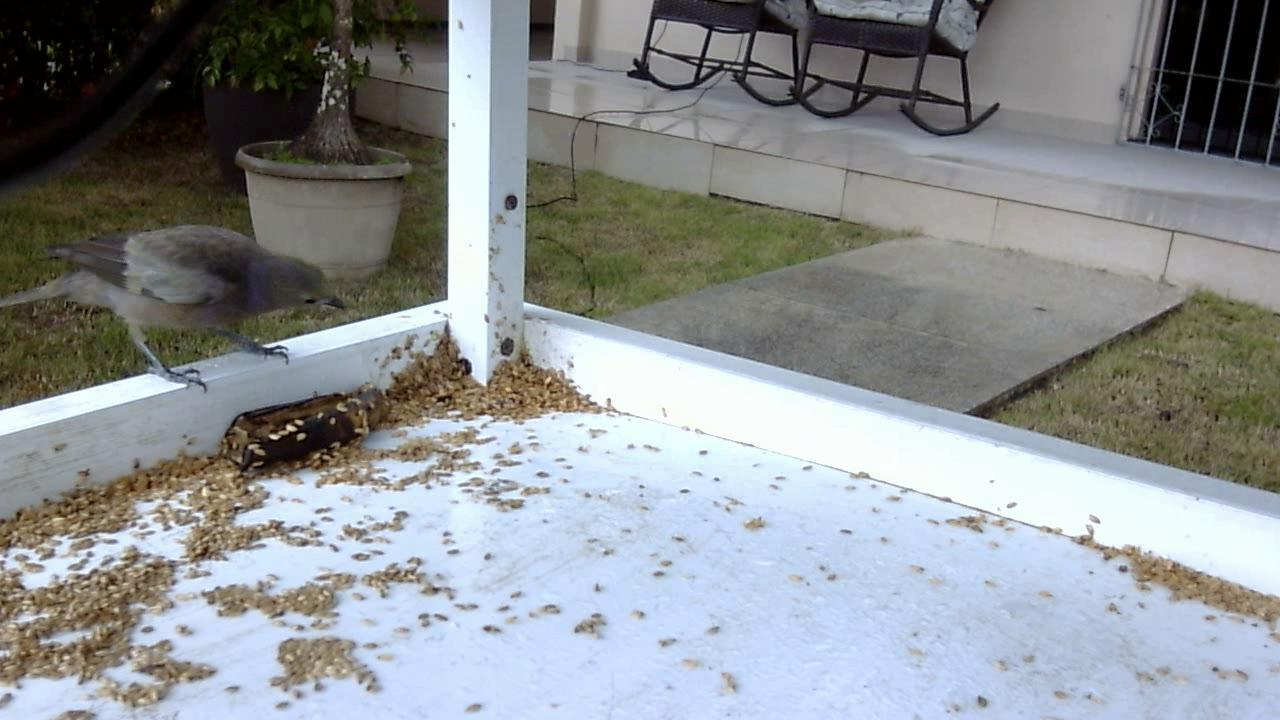sanhaco_do_coqueiro: (6, 215, 351, 408)
